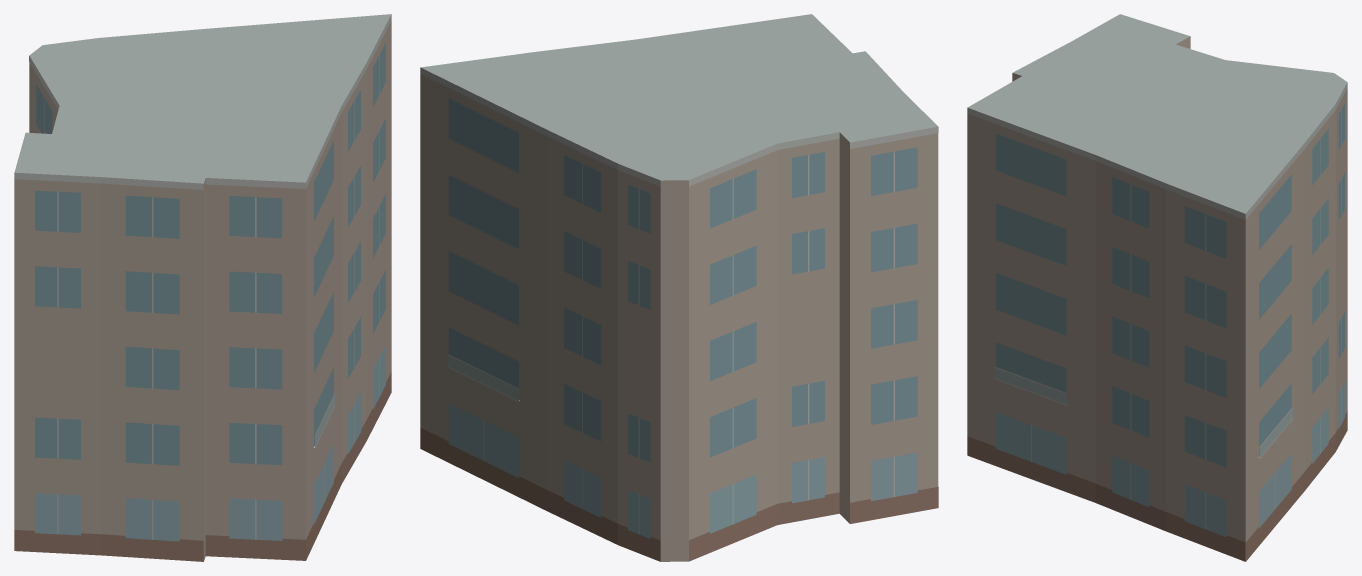
The model's file is survey-upis-32519666.glb.
3 renders of one model, left to right at view 1: azimuth 30°, elevation 25°; view 2: azimuth 150°, elevation 25°; view 3: azimuth 270°, elevation 25°, orthographic. The views are drawn at different scales.
Visible parts, largest first — view 1: survey-upis-32519666.tmp; view 2: survey-upis-32519666.tmp; view 3: survey-upis-32519666.tmp.
Part boxes in pixels (box(x1,y1,x2,y2)): survey-upis-32519666.tmp: box(14, 14, 391, 561); survey-upis-32519666.tmp: box(420, 14, 938, 561); survey-upis-32519666.tmp: box(967, 14, 1347, 561).
Bounding box in the file's own units: 17.69 × 14.35 × 14.22.
